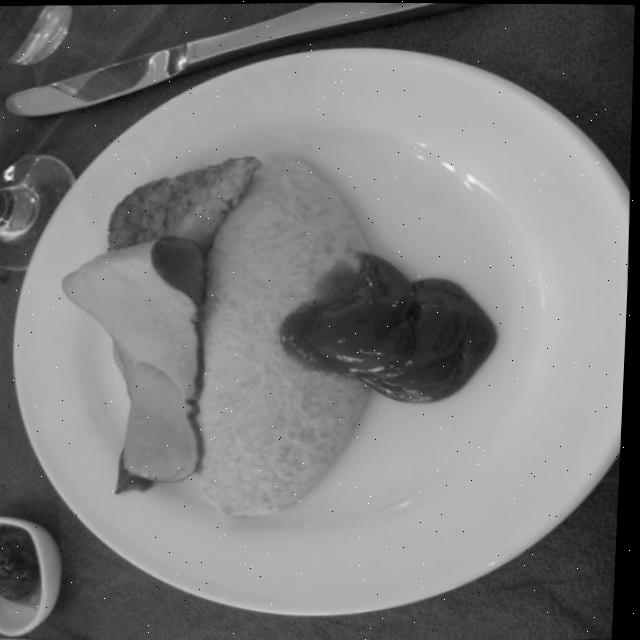鸡蛋料理: (148, 92, 442, 555)
